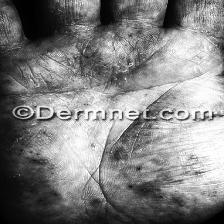Non-Cancerous Skin Condition: (0, 127, 211, 213), (58, 0, 184, 80)
